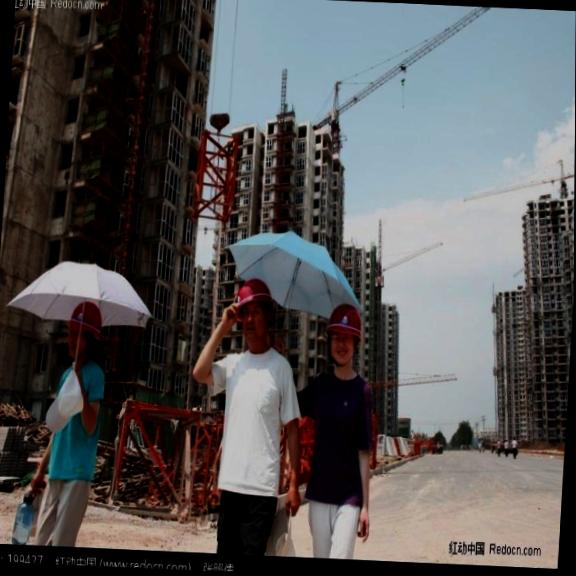no_safety_vest: (216, 333, 297, 483), (302, 360, 374, 499), (45, 345, 105, 477)
